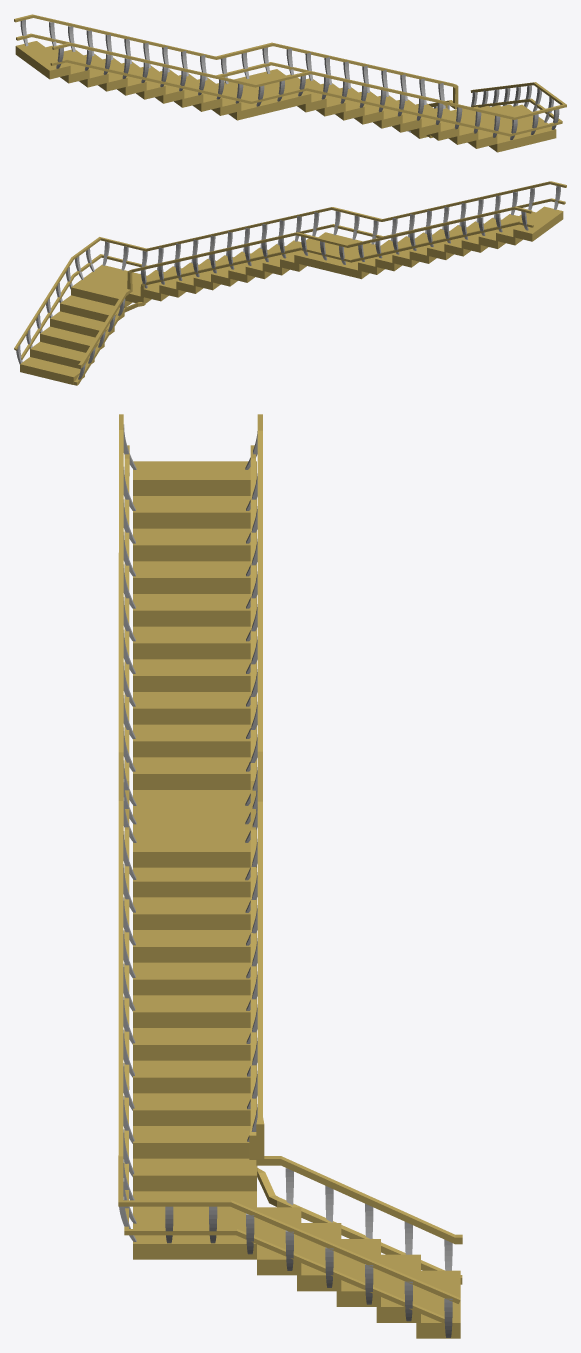
Rendered from stairs4.fbx.
3 views of the same model, one above another, from view 1: azimuth 30°, elevation 25°; view 2: azimuth 150°, elevation 25°; view 3: azimuth 270°, elevation 25° (orthographic). The views are drawn at different scales.
Visible parts, largest first — view 1: stairs; view 2: stairs; view 3: stairs.
Boxes of the visible parts, bbox=[...] form: stairs: bbox=[14, 14, 566, 152]; stairs: bbox=[14, 181, 566, 385]; stairs: bbox=[118, 414, 462, 1338].
Size of what is drawn, in the model's own units: 2438 by 1182 by 777.
